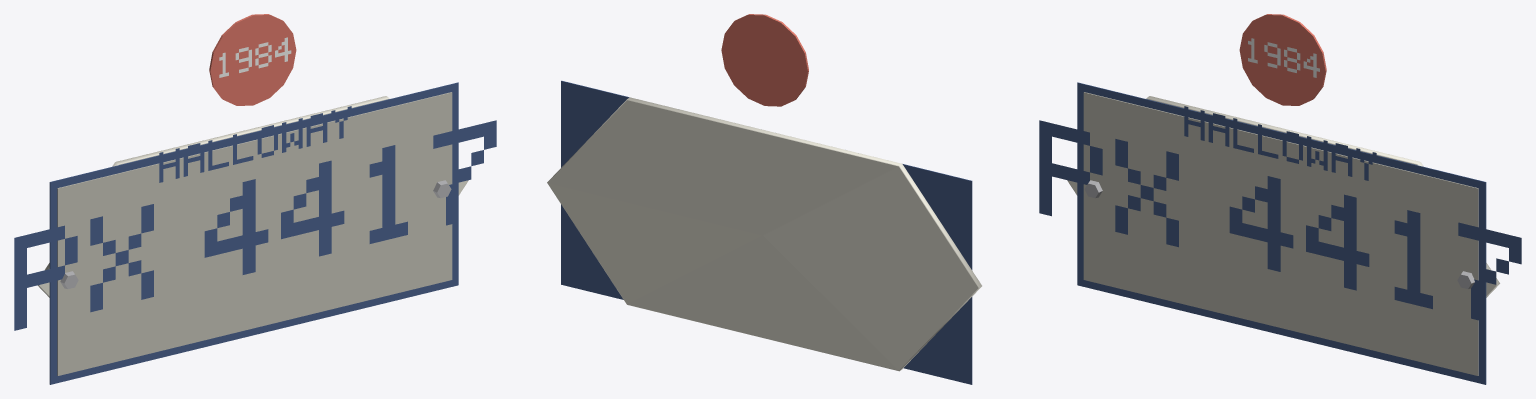
The model's file is cruiser_plate_a.glb.
3 views of the same model, side by side, from view 1: azimuth 30°, elevation 25°; view 2: azimuth 150°, elevation 25°; view 3: azimuth 330°, elevation 25° (orthographic).
Parts seen in each view (by area): view 1: body; view 2: body; view 3: body.
Part boxes in pixels (x1,y1,x2,y2): body: (14,14,496,384); body: (547,14,981,384); body: (1039,14,1521,384).
Size of the model in its own units: 0.3366 by 0.2131 by 0.009.
